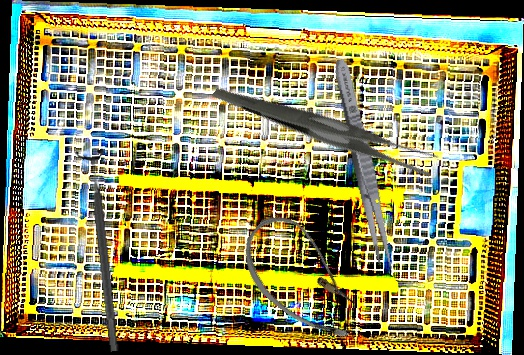Cannula: (226, 204, 383, 353)
Dressing Forceps: (211, 25, 443, 229), (328, 57, 400, 273)
Fixation Ring: (73, 148, 131, 354)
